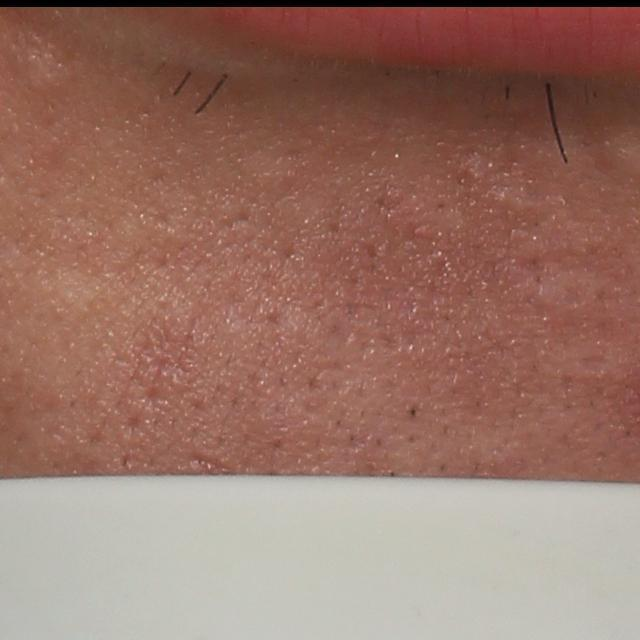hypertrophic_scar: (514, 259, 620, 313)
